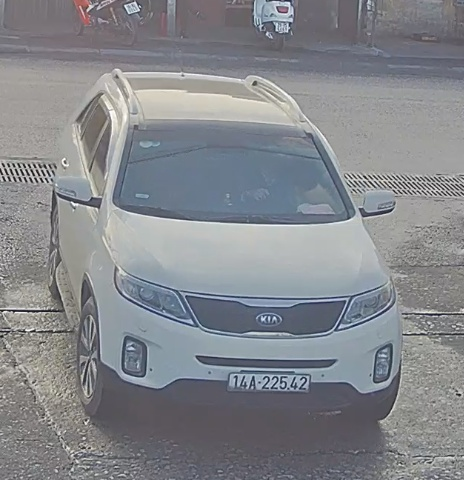vehicle plate: (220, 366, 318, 399)
